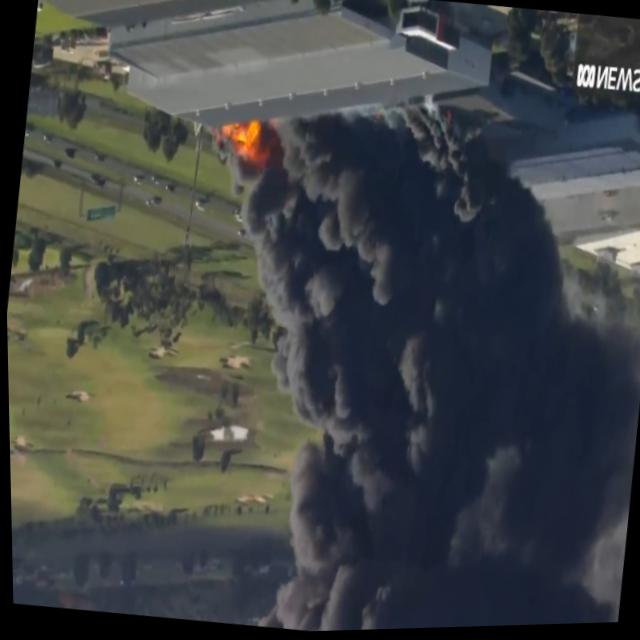Fire: (219, 118, 267, 160)
